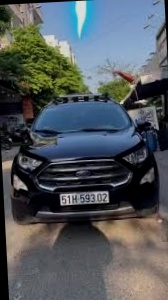Bien-so: (54, 186, 103, 198)
